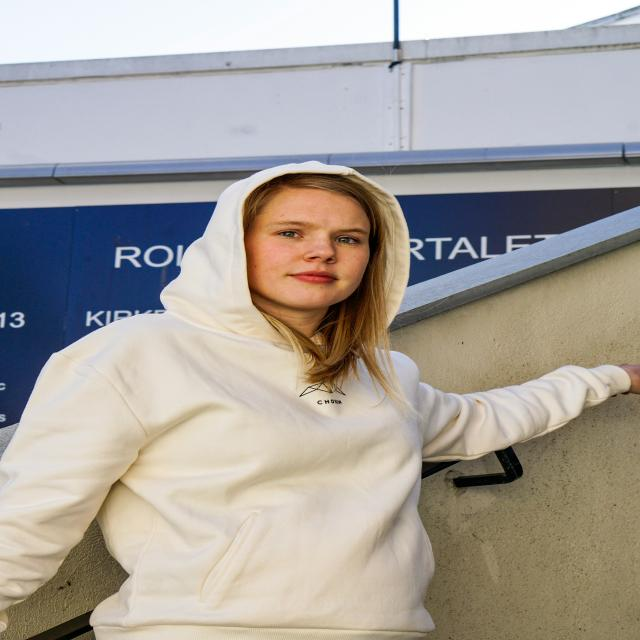4_capucha: (158, 160, 414, 351)
